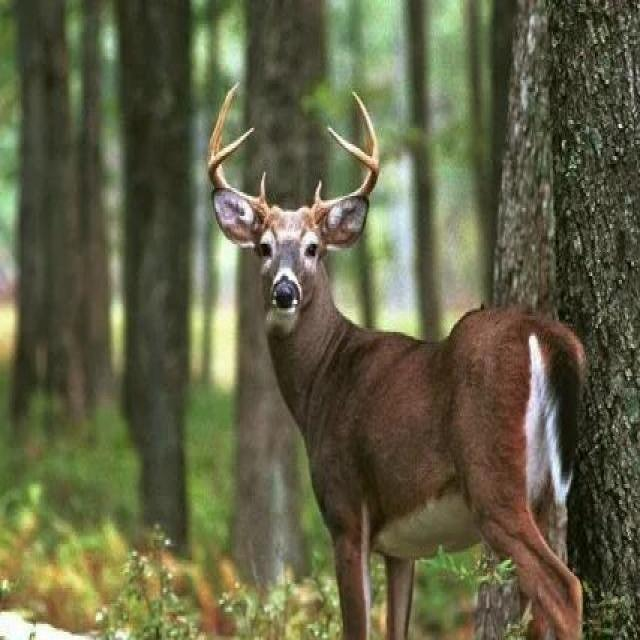deer: (184, 88, 626, 628)
